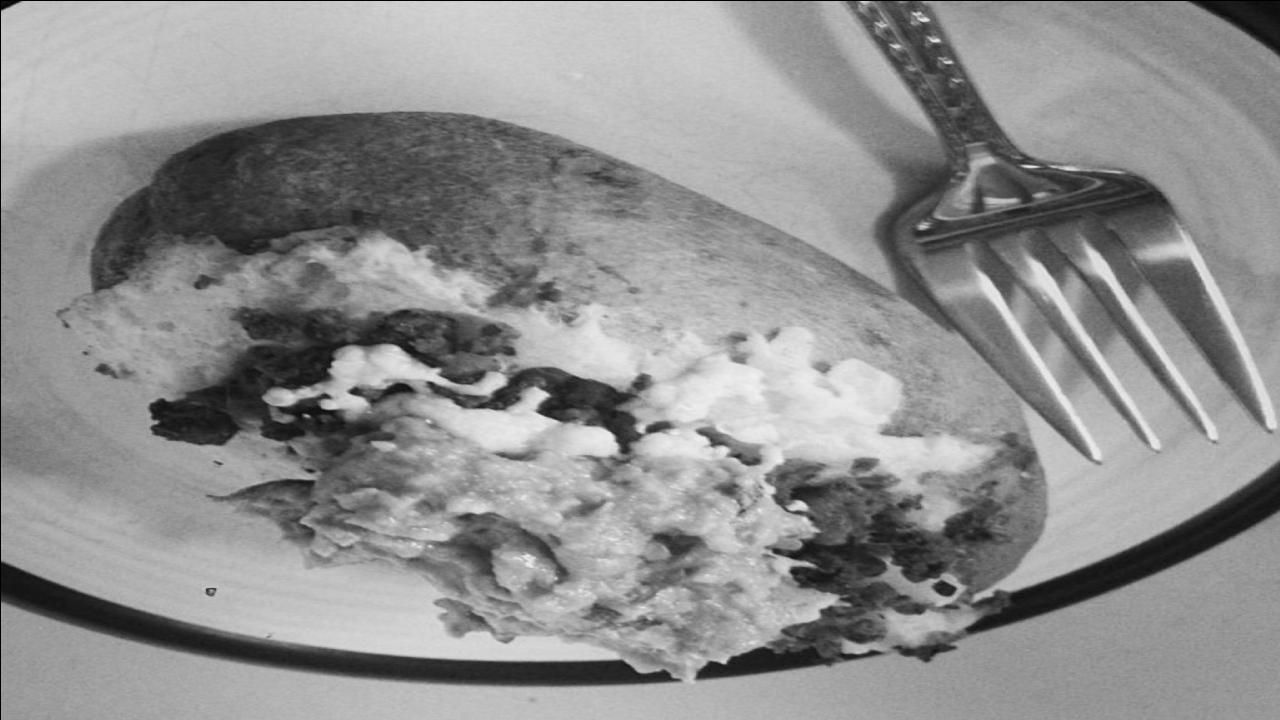fork: (886, 0, 1280, 467)
